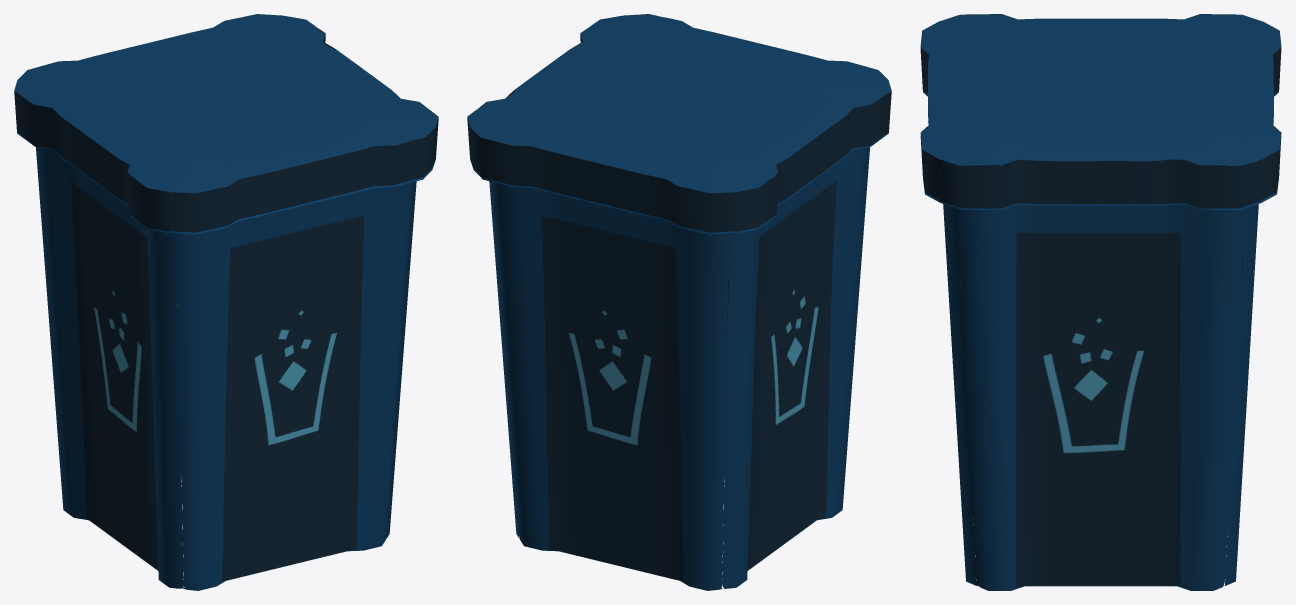
File: Trash BIn.fbx
The picture shows the model from 3 angles, left to right: view 1: azimuth 30°, elevation 25°; view 2: azimuth 150°, elevation 25°; view 3: azimuth 270°, elevation 25°; orthographic projection. The views are drawn at different scales.
Parts seen in each view (by area): view 1: pPlane1; view 2: pPlane1; view 3: pPlane1.
Boxes of the visible parts, x1,y1,x2,y2 form: pPlane1: (14, 14, 438, 590); pPlane1: (467, 14, 891, 590); pPlane1: (920, 14, 1281, 590).
Bounding box in the file's own units: 13.53 × 18.64 × 13.65.
1 material, 1 textured.
